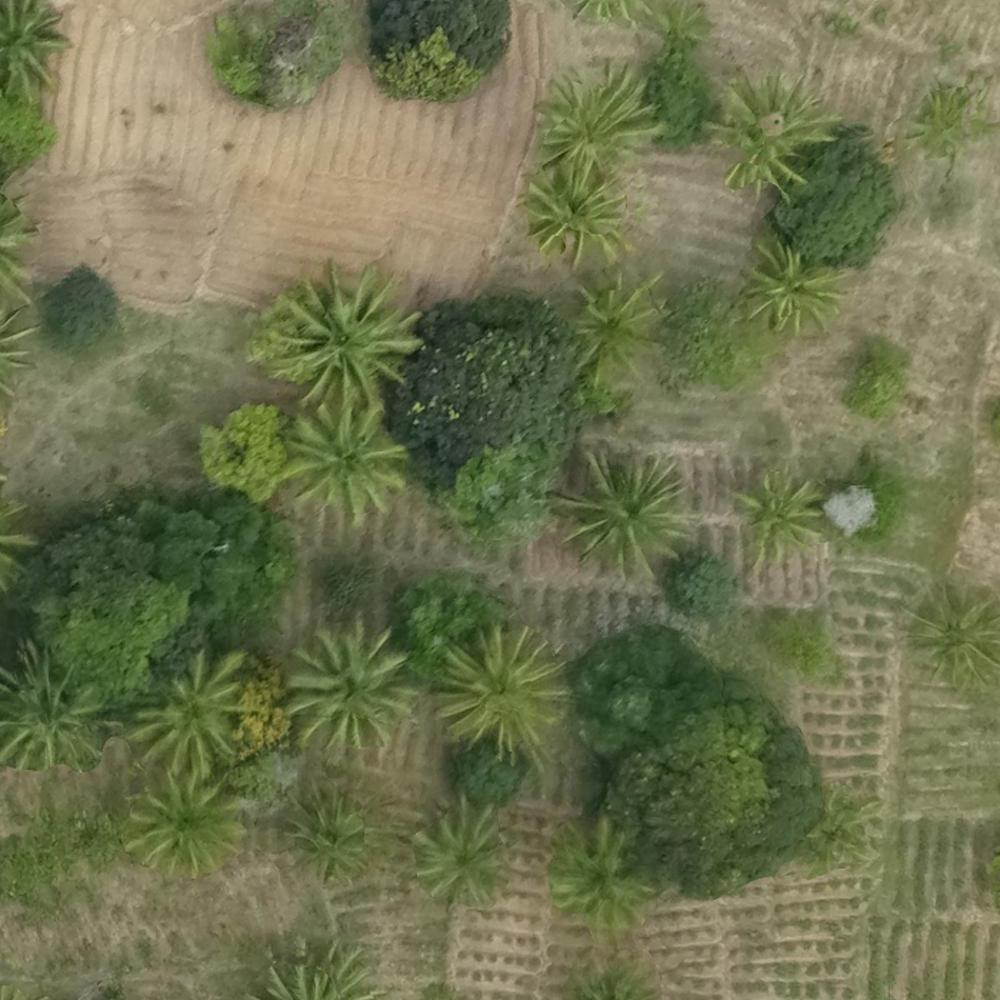Palm: (270, 263, 411, 402), (711, 69, 834, 195), (438, 638, 571, 754), (282, 630, 416, 744), (559, 450, 686, 566), (543, 62, 659, 178), (279, 407, 393, 522), (125, 661, 248, 764), (4, 647, 111, 761), (542, 825, 657, 924), (127, 776, 246, 867), (568, 282, 670, 385), (744, 233, 849, 333), (525, 162, 630, 259), (410, 805, 513, 902), (903, 588, 1000, 688), (282, 790, 380, 883), (730, 472, 824, 557), (810, 789, 884, 868)
